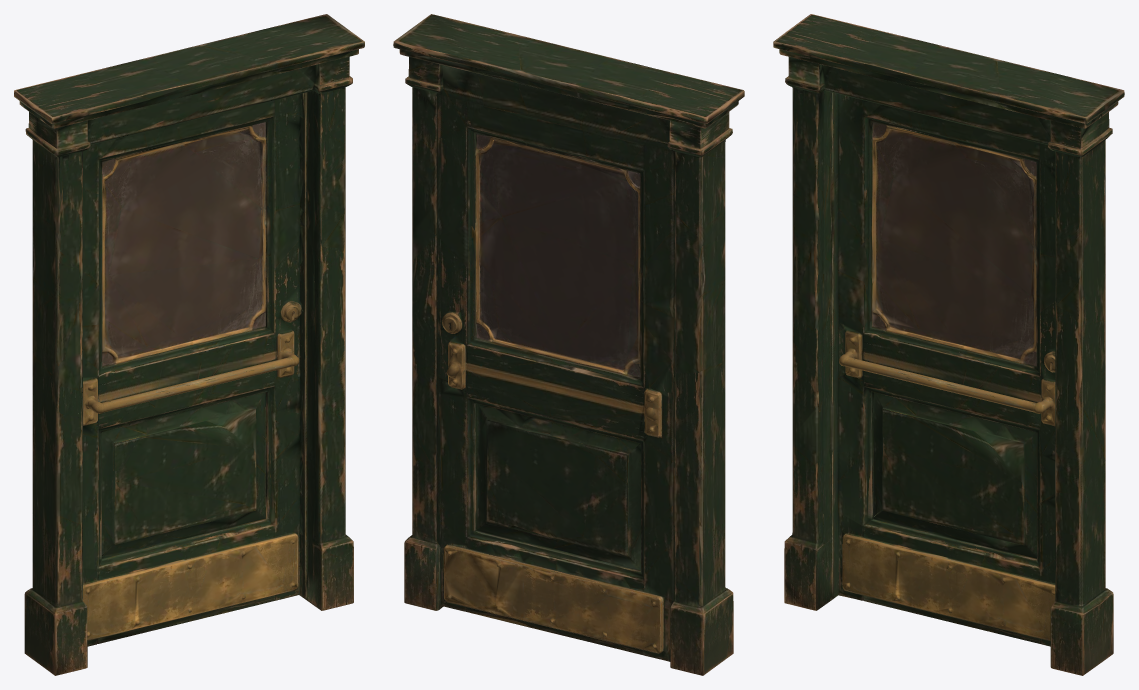
Rendered from d_door.glb.
The picture shows the model from 3 angles, left to right: view 1: azimuth 30°, elevation 25°; view 2: azimuth 150°, elevation 25°; view 3: azimuth 330°, elevation 25°; orthographic projection.
Bounding box in the file's own units: 1.11 × 1.9 × 0.2335.
Materials: 1 (1 with a texture image).
